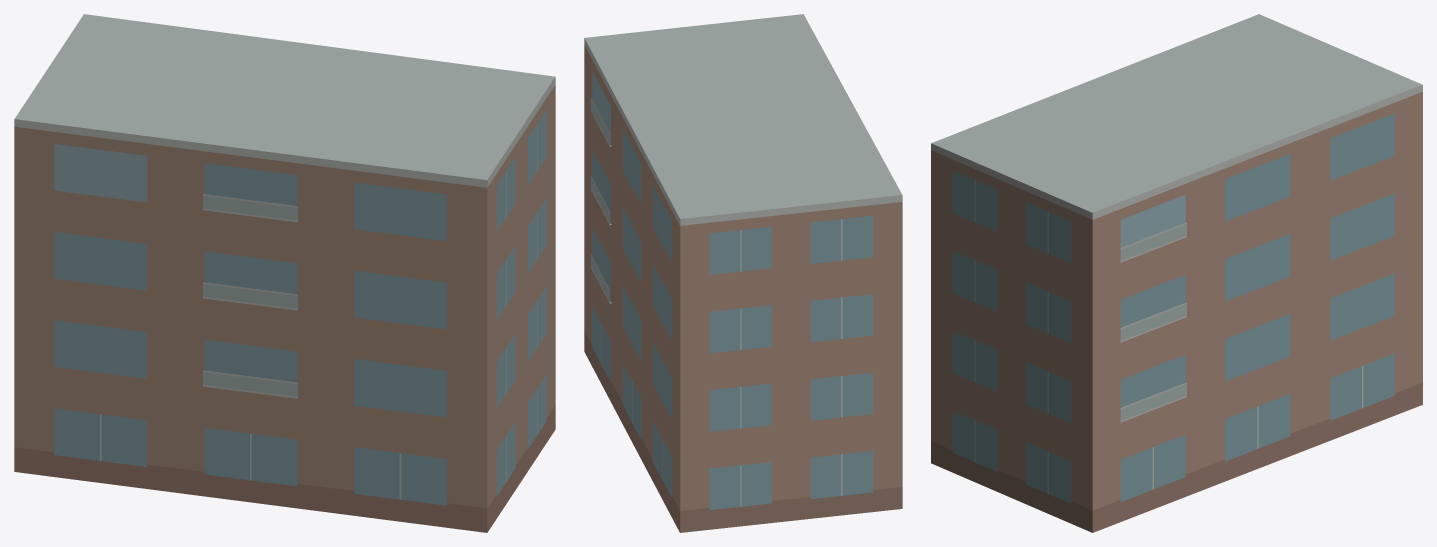
File: survey-upis-32646472.glb
3 renders of one model, left to right at view 1: azimuth 30°, elevation 25°; view 2: azimuth 150°, elevation 25°; view 3: azimuth 270°, elevation 25°, orthographic. The views are drawn at different scales.
Visible parts, largest first — view 1: survey-upis-32646472.tmp; view 2: survey-upis-32646472.tmp; view 3: survey-upis-32646472.tmp.
Boxes of the visible parts, box(x1,y1,x2,y2) form: survey-upis-32646472.tmp: box(14, 14, 555, 532); survey-upis-32646472.tmp: box(584, 14, 902, 532); survey-upis-32646472.tmp: box(931, 14, 1422, 532).
Size of the model in its own units: 15.08 by 11.3 by 15.75.
